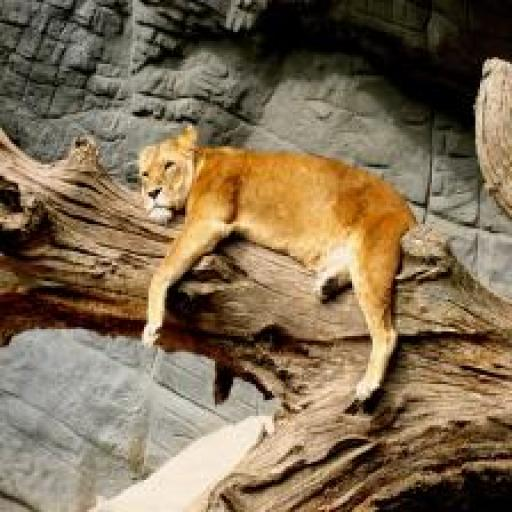lion: (128, 137, 417, 401)
